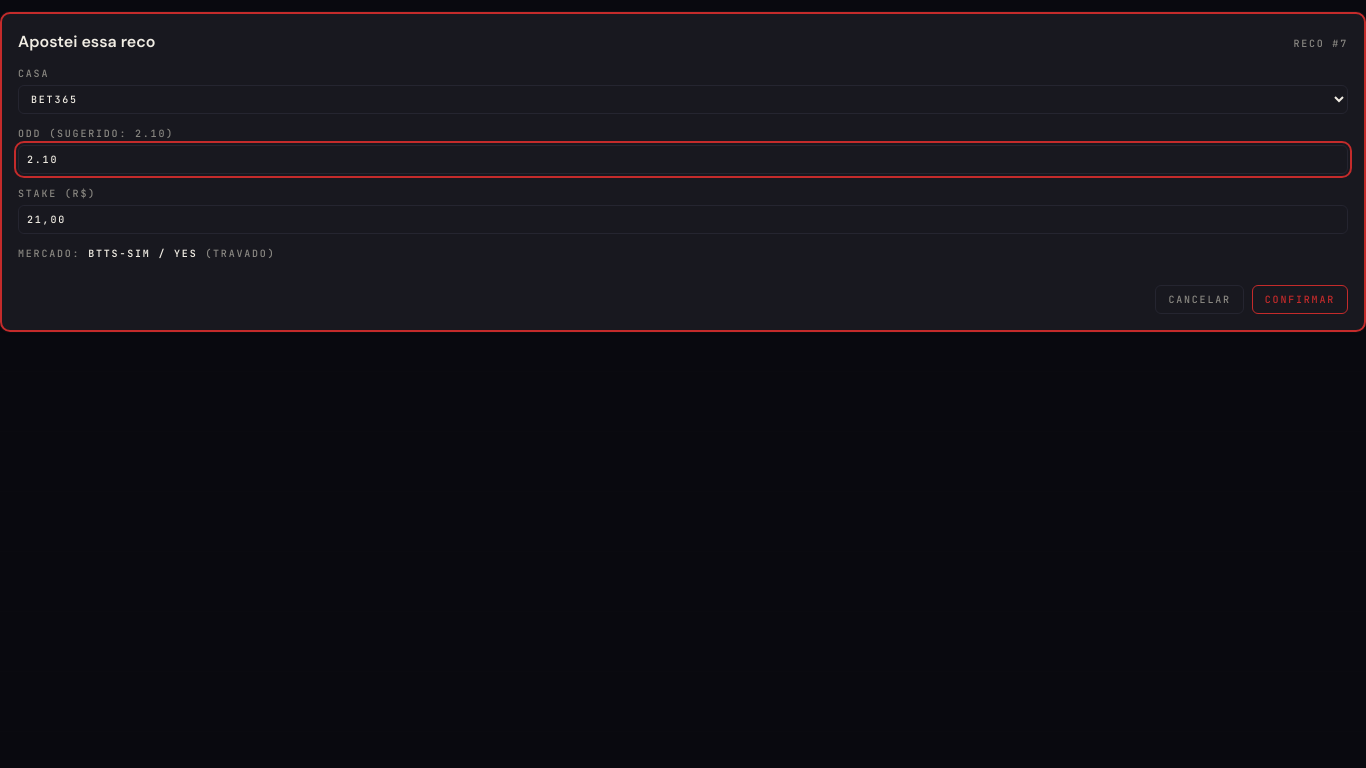
Scenario: AposteiModal — role e acessibilidade › erro é anunciado via role=alert quando presente
Note: Limpa o campo odd para forçar erro
Replace the text in the field labelled "Odd (sugerido: 2.10)" with "1.0" at [683, 160], box left=18, top=145, right=1348, bottom=174
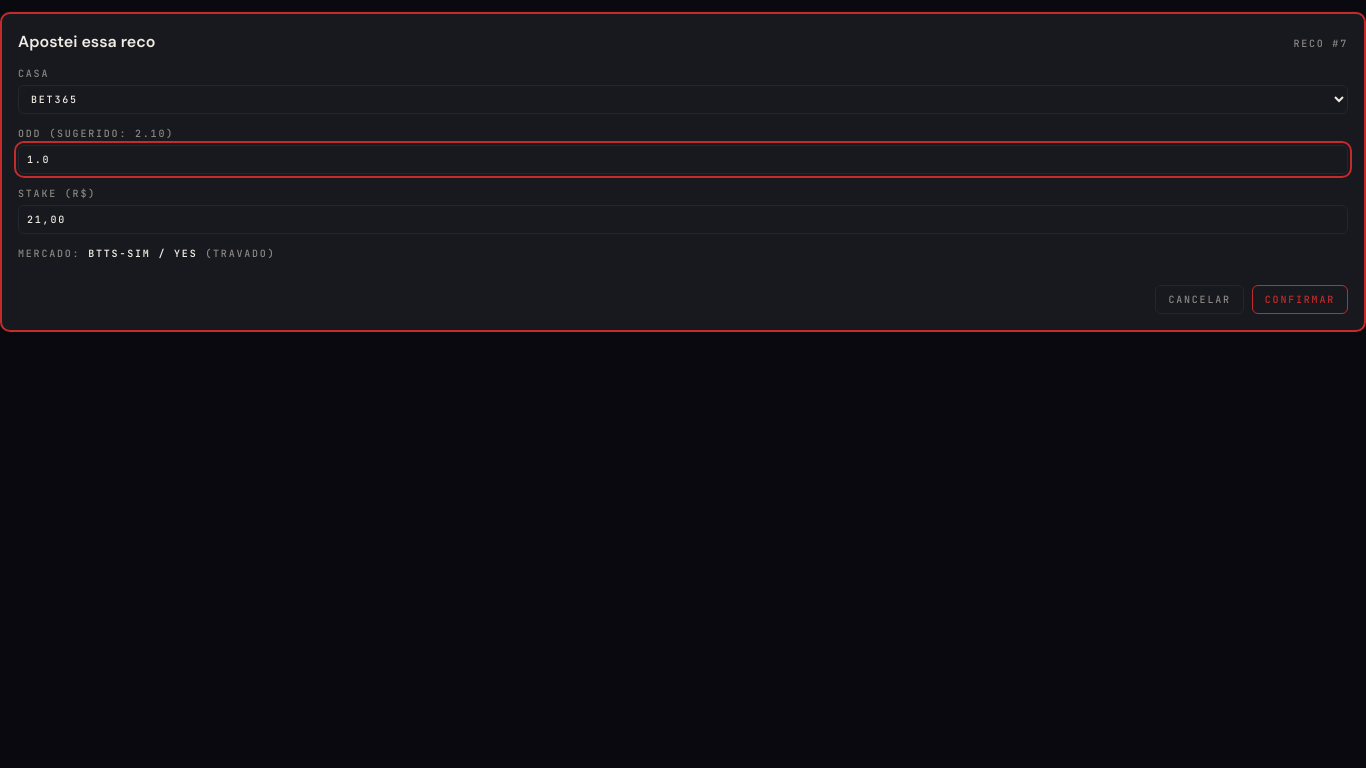
Click the button "Confirmar" at [1300, 300], box left=1252, top=285, right=1348, bottom=314
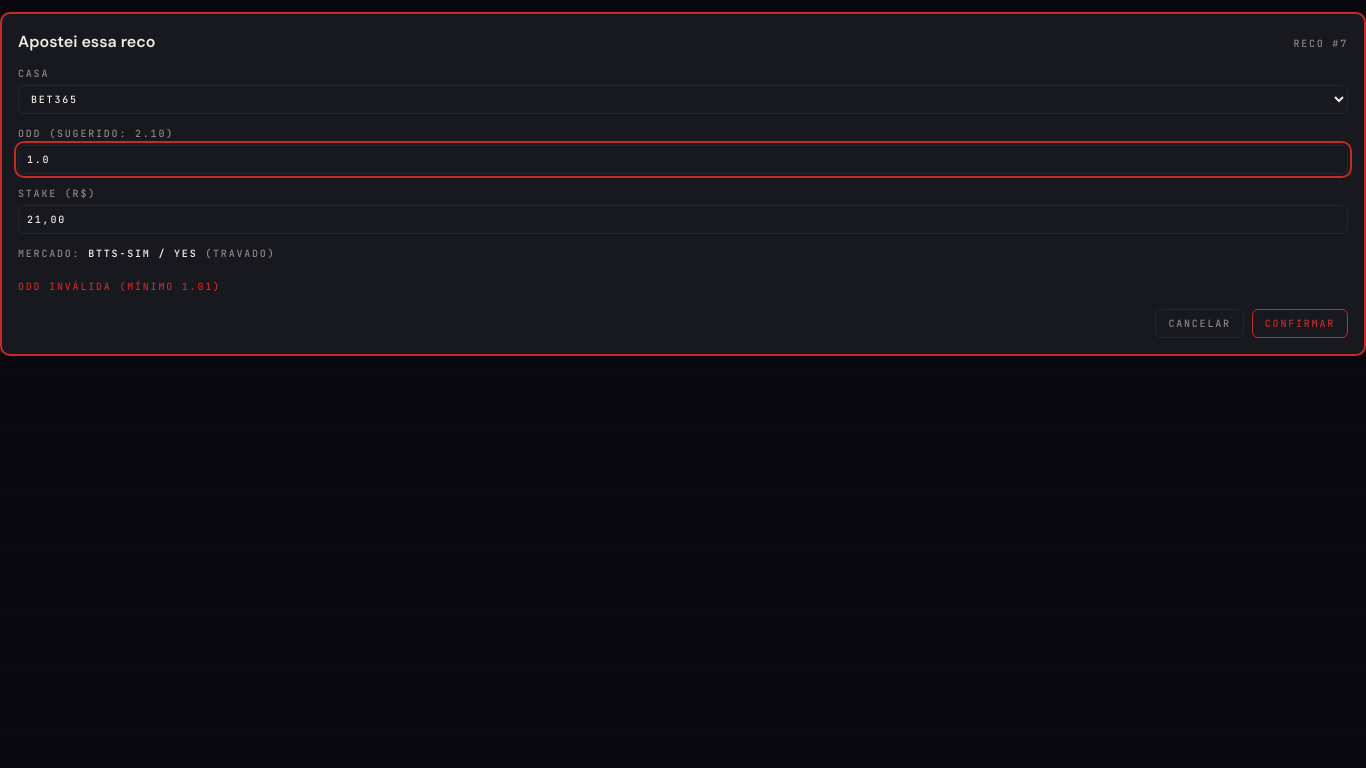
Expected: the message "odd inválida (mínimo 1.01)" is shown, left=18, top=280, right=221, bottom=293
